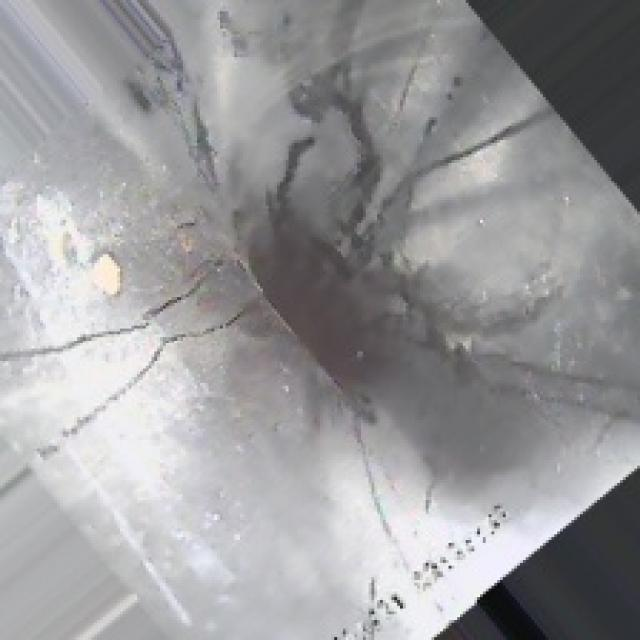shape_deformation: (106, 37, 514, 452)
